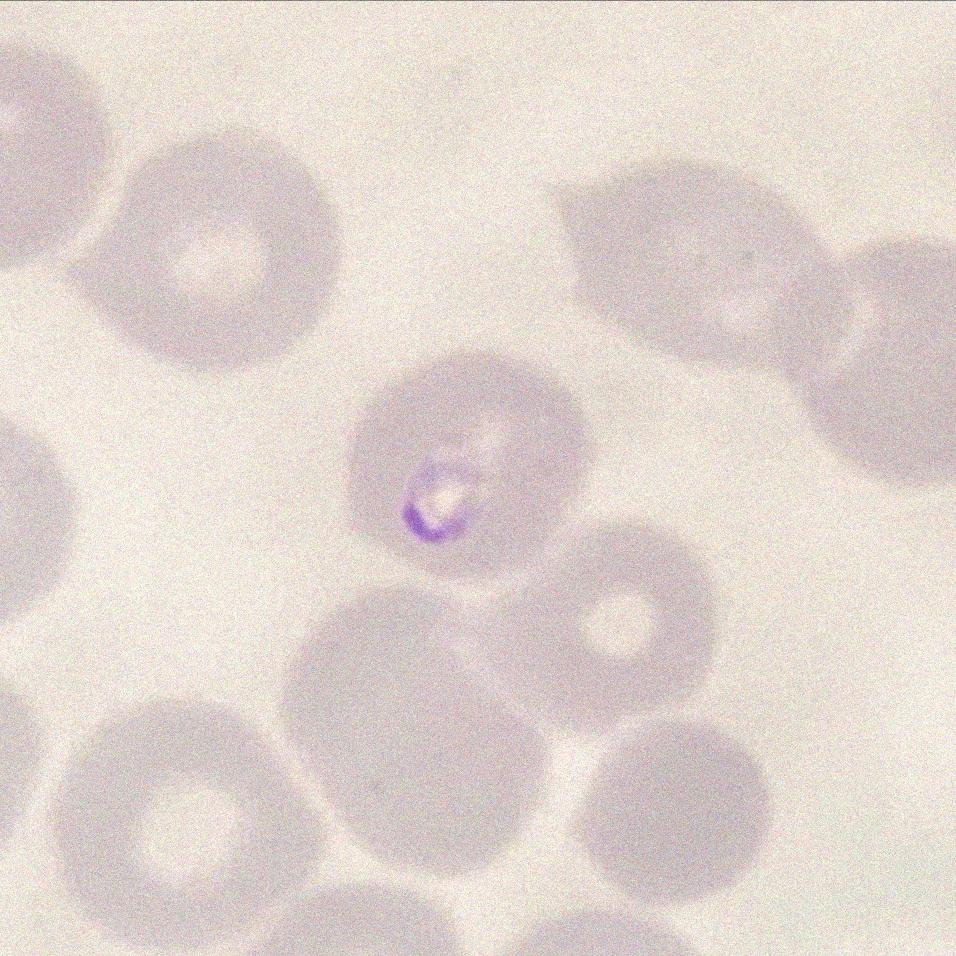Infected: (345, 351, 588, 586)
Uninfected: (272, 586, 548, 878), (525, 161, 846, 378), (45, 693, 318, 942), (58, 131, 336, 373), (477, 518, 709, 736), (778, 238, 956, 483), (572, 726, 768, 903)
